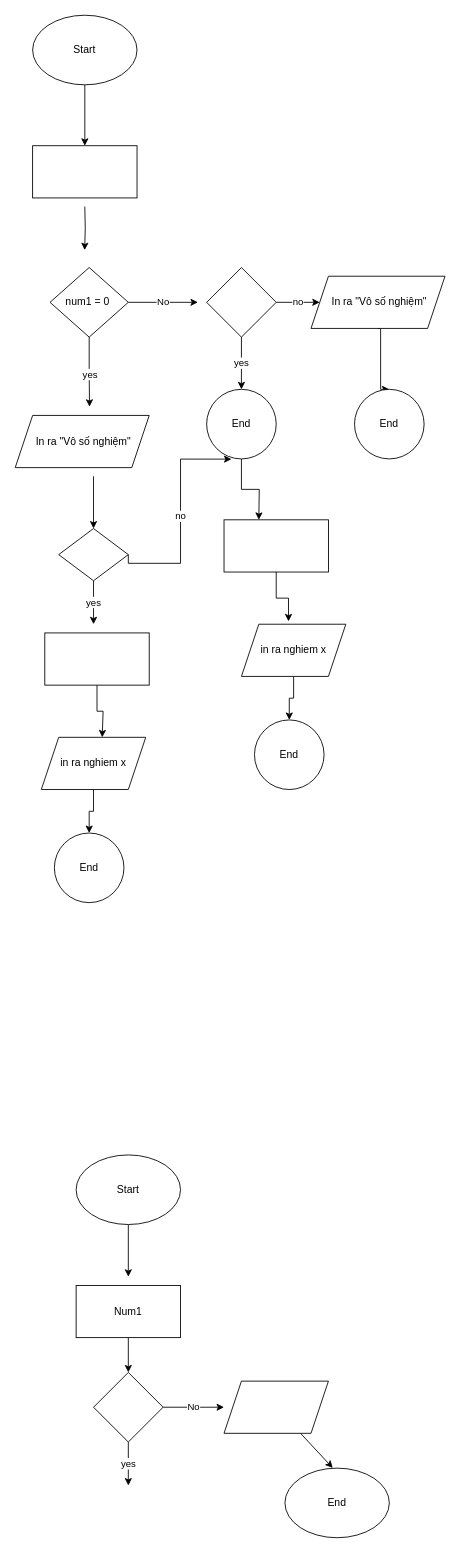
Image size: 460x1553. Some labels were removed from this diagram. Each missing label, with the centre of its shape:
"khong dat" goes at [275,1406].
"num1 != 0" goes at [93,554].
"Num1 < 4" goes at [128,1407].
"num1,num2" goes at [84,171].
"num2 = 0 ?" goes at [241,302].
"Tính x = -num2 / num1" goes at [96,658].
"x = -num2 / num1" goes at [275,545].
